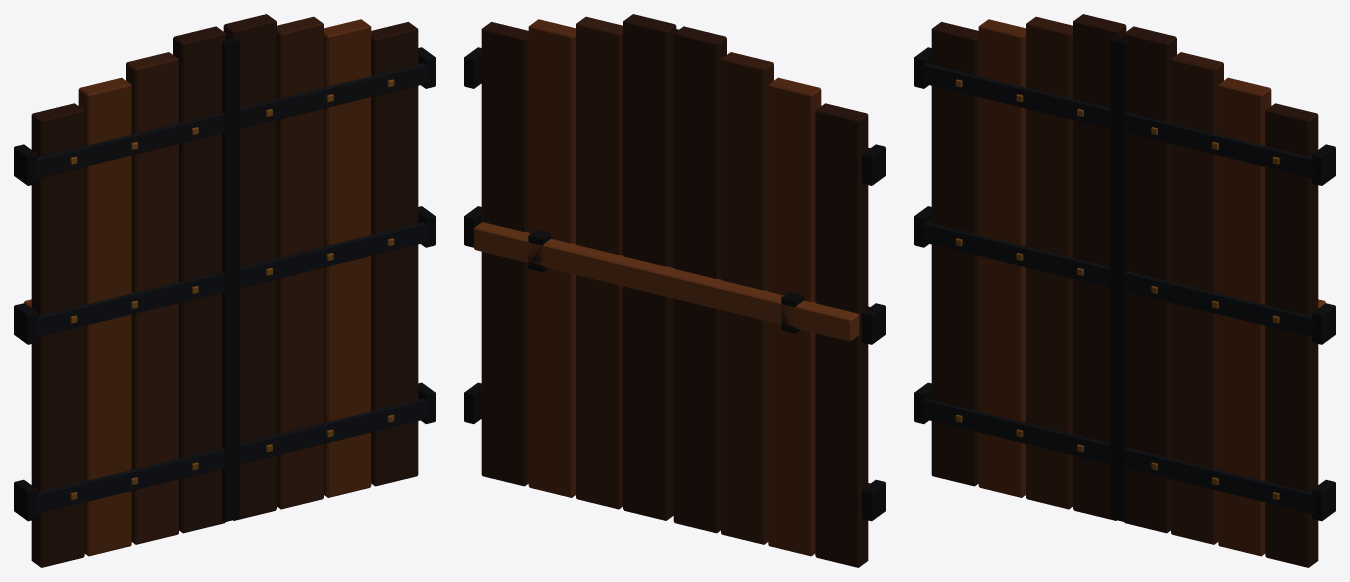
The model's file is mod_double_gate_leaf.glb.
3 views of the same model, side by side, from view 1: azimuth 30°, elevation 25°; view 2: azimuth 150°, elevation 25°; view 3: azimuth 330°, elevation 25° (orthographic).
Visible parts, largest first — view 1: Mod_Double_Gate_Leaf; view 2: Mod_Double_Gate_Leaf; view 3: Mod_Double_Gate_Leaf.
Boxes of the visible parts, x1,y1,x2,y2 form: Mod_Double_Gate_Leaf: (14, 14, 435, 567); Mod_Double_Gate_Leaf: (464, 14, 885, 567); Mod_Double_Gate_Leaf: (914, 14, 1335, 567).
Bounding box in the file's own units: 2.42 × 2.78 × 0.217.
